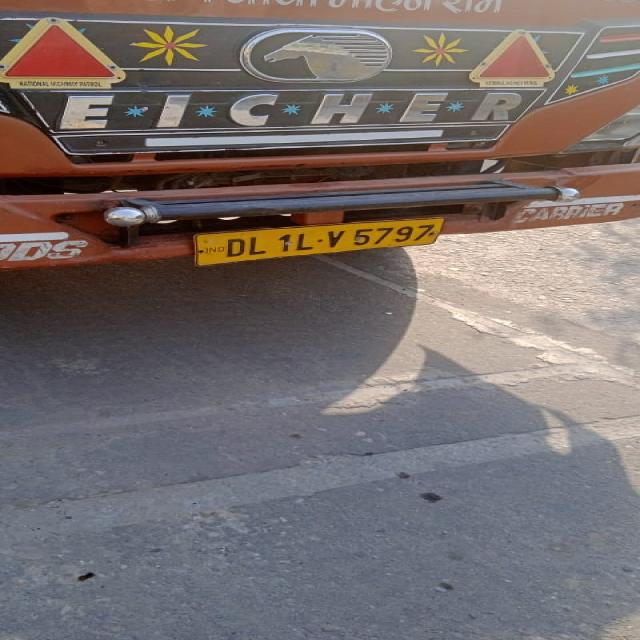License-plate: (203, 220, 470, 262)
